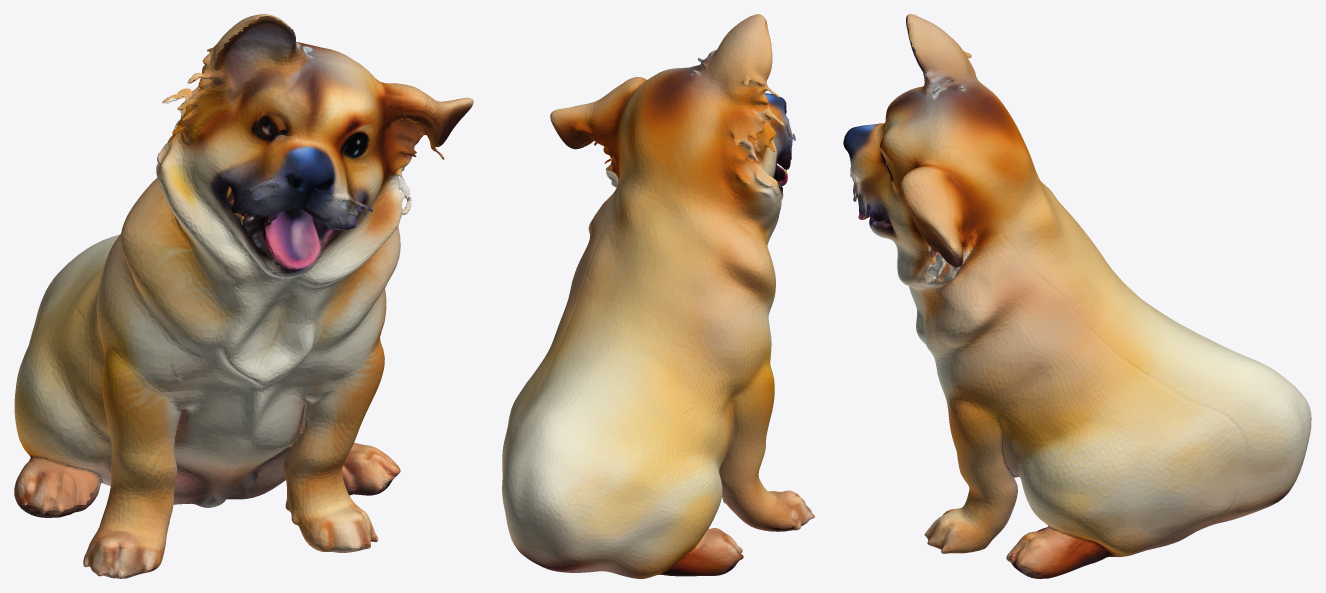
3 views of the same model, side by side, from view 1: azimuth 30°, elevation 25°; view 2: azimuth 150°, elevation 25°; view 3: azimuth 270°, elevation 25° (orthographic). The views are drawn at different scales.
Visible parts, largest first — view 1: tmppvz3wc2j.ply; view 2: tmppvz3wc2j.ply; view 3: tmppvz3wc2j.ply.
Part boxes in pixels (bbox=[...]): tmppvz3wc2j.ply: bbox=[14, 14, 473, 578]; tmppvz3wc2j.ply: bbox=[502, 14, 814, 578]; tmppvz3wc2j.ply: bbox=[843, 14, 1311, 578].
Bounding box in the file's own units: 1.28 × 2 × 1.74.
Materials: 1 (1 with a texture image).
